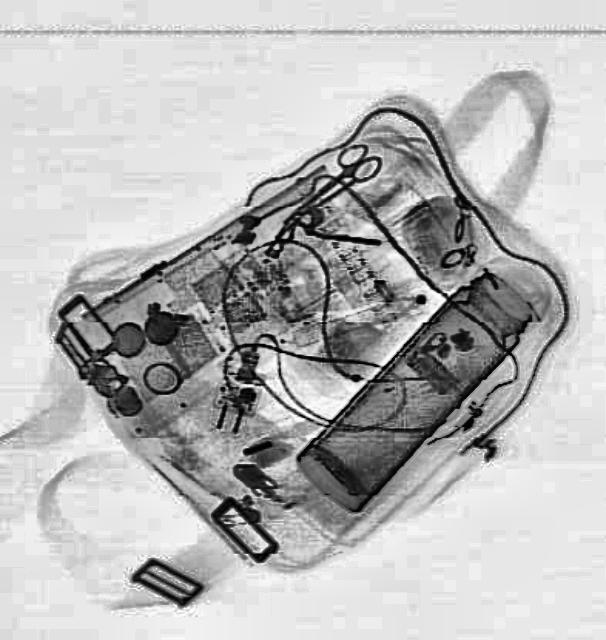Scissors: (277, 134, 384, 232)
